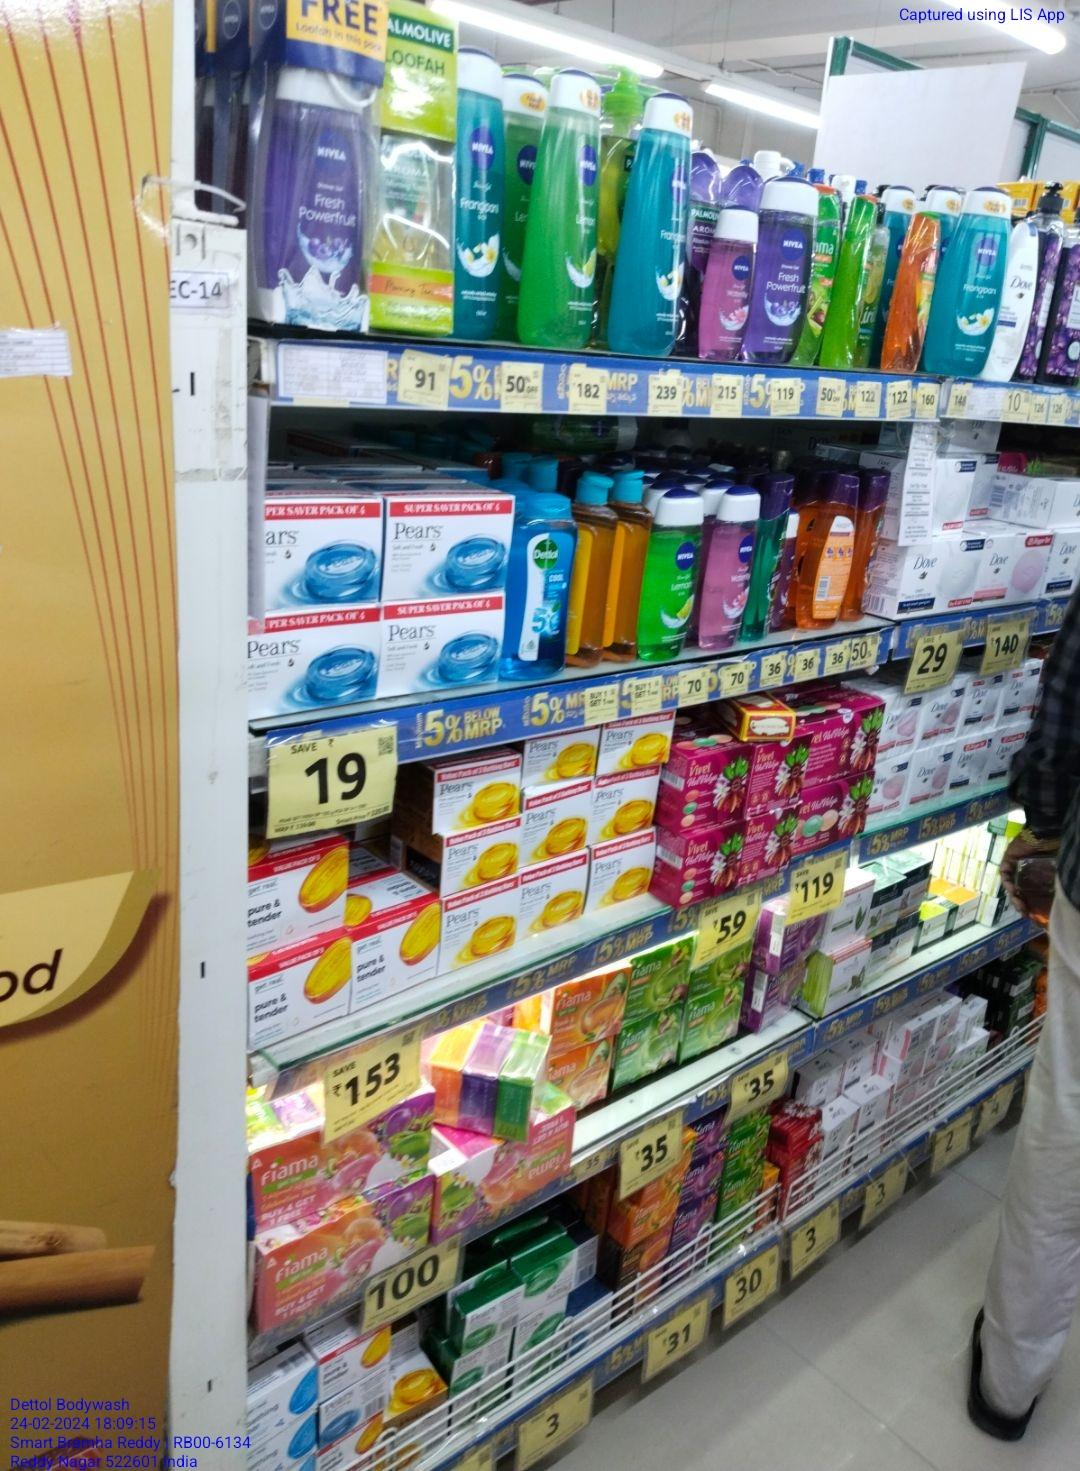Dettol_Bodywash_Cool: (516, 499, 577, 680)
Nivea_Shower_Gel_Frangipani_and_Oil_250ML: (628, 93, 686, 356), (457, 46, 505, 337), (938, 188, 1009, 372)
Nivea_Shower_Gel_Fresh_Powerfruit_250ML: (759, 175, 816, 365)
Nivea_Shower_Gel_Lemon_and_Oil_250ML: (531, 71, 602, 346), (646, 497, 702, 668)
Nivea_Shower_Gel_Waterlily_and_Oil_250ML: (712, 497, 764, 649)
